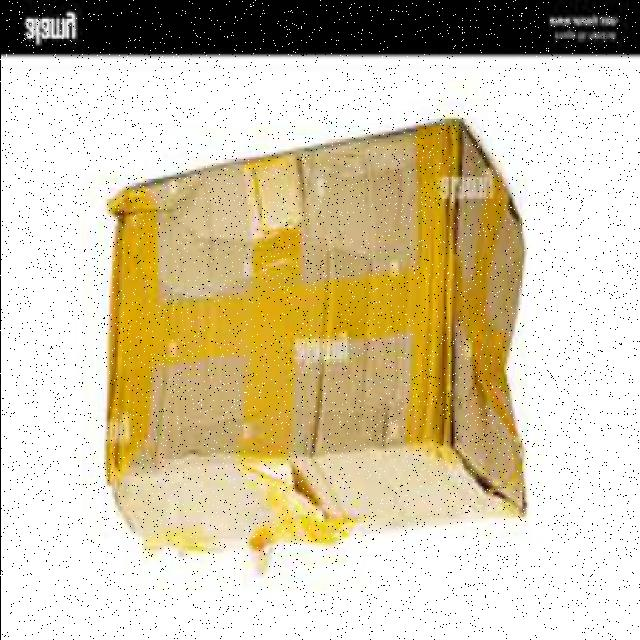normal: (98, 117, 524, 557)
